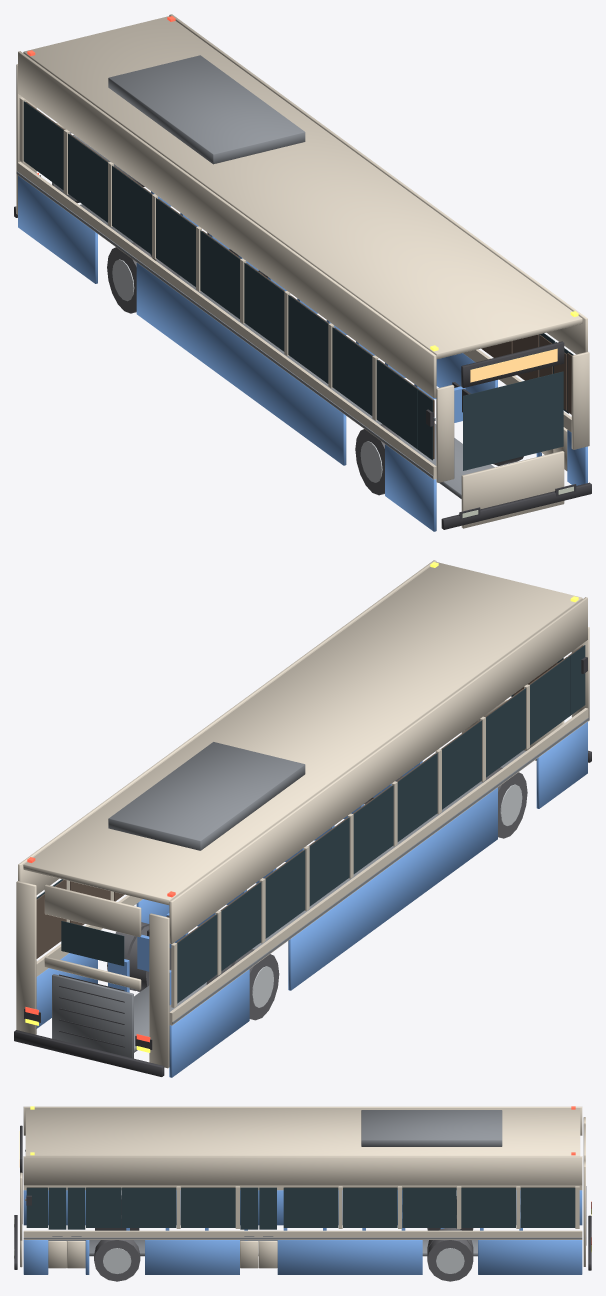
File: Bus_City40_26.fbx
3 views of the same model, one above another, from view 1: azimuth 30°, elevation 25°; view 2: azimuth 150°, elevation 25°; view 3: azimuth 270°, elevation 25° (orthographic). The views are drawn at different scales.
Visible parts, largest first — view 1: LOD0; view 2: LOD0; view 3: LOD0.
Boxes of the visible parts, x1=… form: LOD0: x1=14, y1=14, x2=591, y2=531; LOD0: x1=14, y1=560, x2=591, y2=1077; LOD0: x1=14, y1=1106, x2=591, y2=1281.
Size of what is drawn, in the model's own units: 264 by 320 by 1250.
